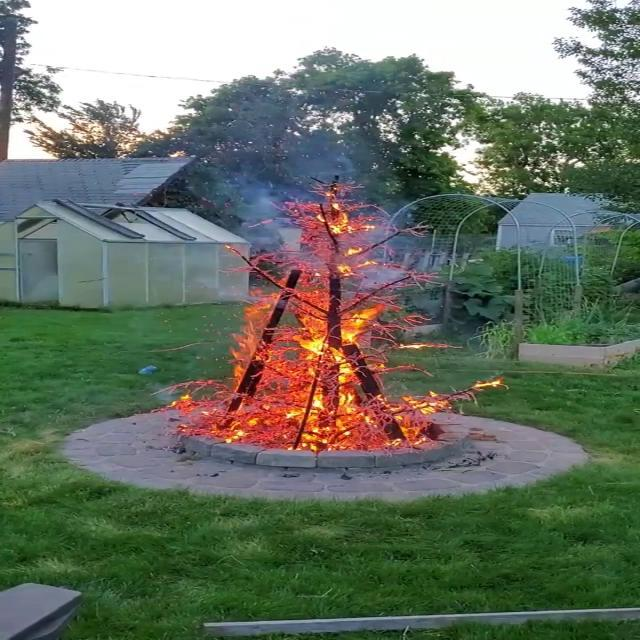Fire: (205, 188, 450, 450)
Smoke: (196, 80, 377, 252)
